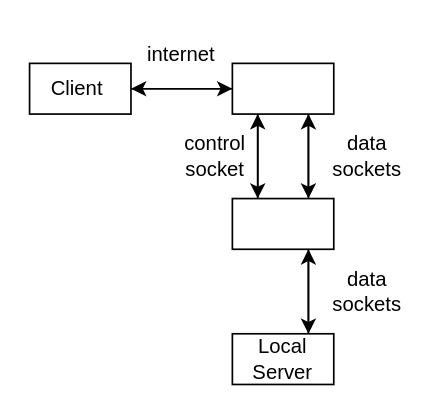
Some shapes in this 448 by 414 pixel diagram are drawn without their labels. Here are the shapes that lost their labels. From the top down, the centre of each, then its label:
At [282,88]: "Obelisk".
At [282,223]: "Phantom".
